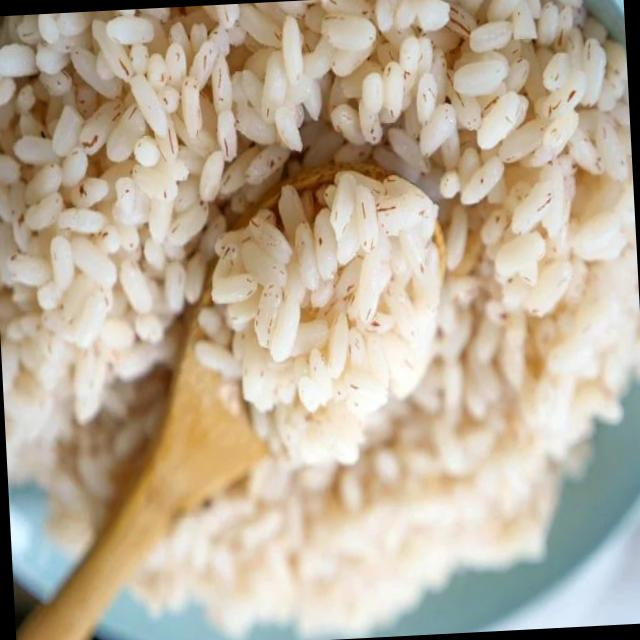rice: (0, 0, 640, 629)
